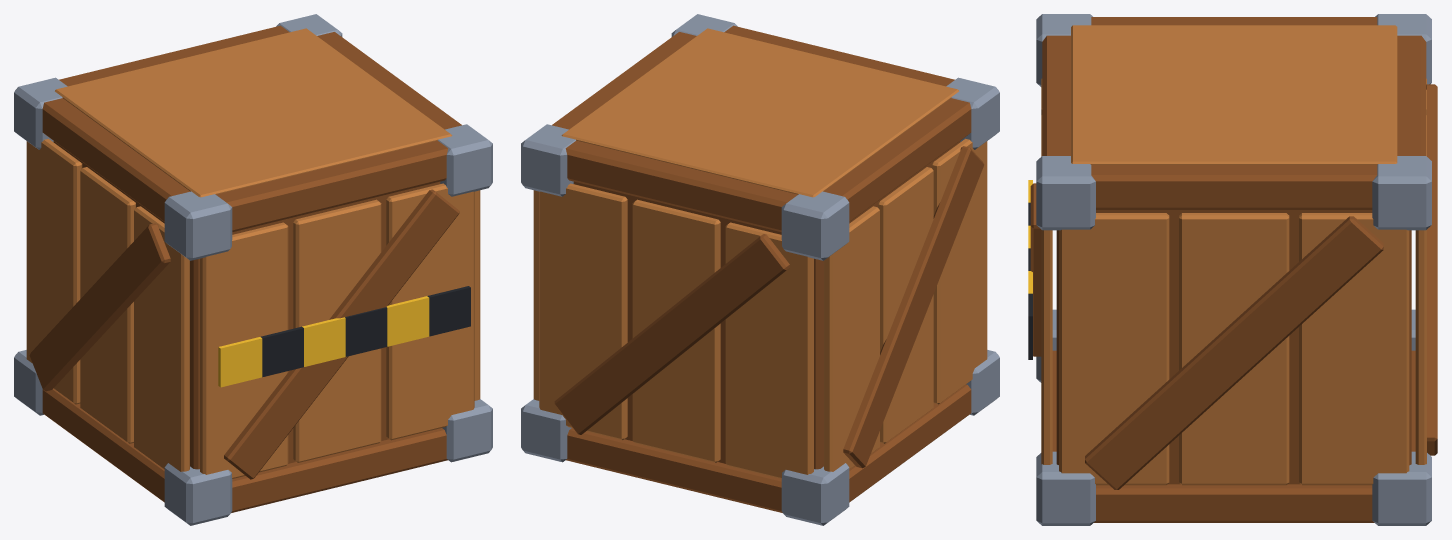
The model's file is Crate.fbx.
3 views of the same model, side by side, from view 1: azimuth 30°, elevation 25°; view 2: azimuth 150°, elevation 25°; view 3: azimuth 270°, elevation 25° (orthographic). The views are drawn at different scales.
Parts seen in each view (by area): view 1: Crate; view 2: Crate; view 3: Crate.
Boxes of the visible parts, x1,y1,x2,y2 form: Crate: [14, 14, 492, 525]; Crate: [521, 14, 999, 525]; Crate: [1028, 14, 1437, 525].
Bounding box in the file's own units: 4.24 × 4.04 × 4.27.
1 material, 1 textured.
